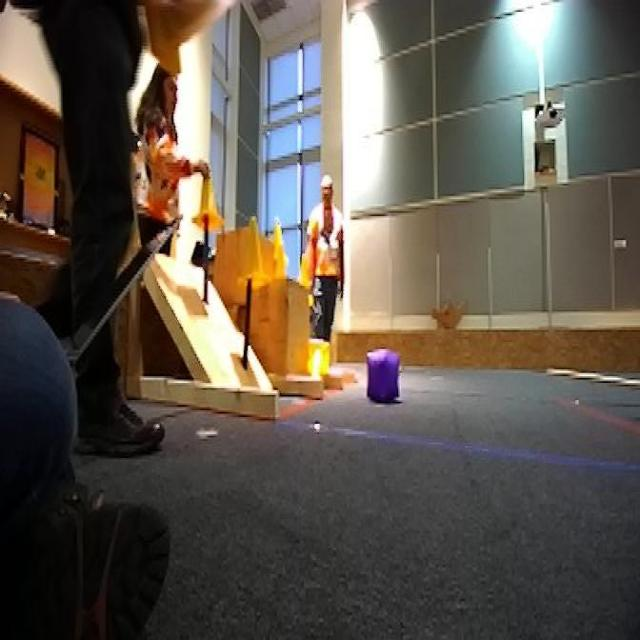frc_cone: (143, 0, 240, 80), (238, 216, 270, 295), (192, 163, 226, 235), (308, 337, 332, 381), (270, 216, 290, 267), (274, 242, 288, 279)
frc_cube: (366, 345, 402, 407)
